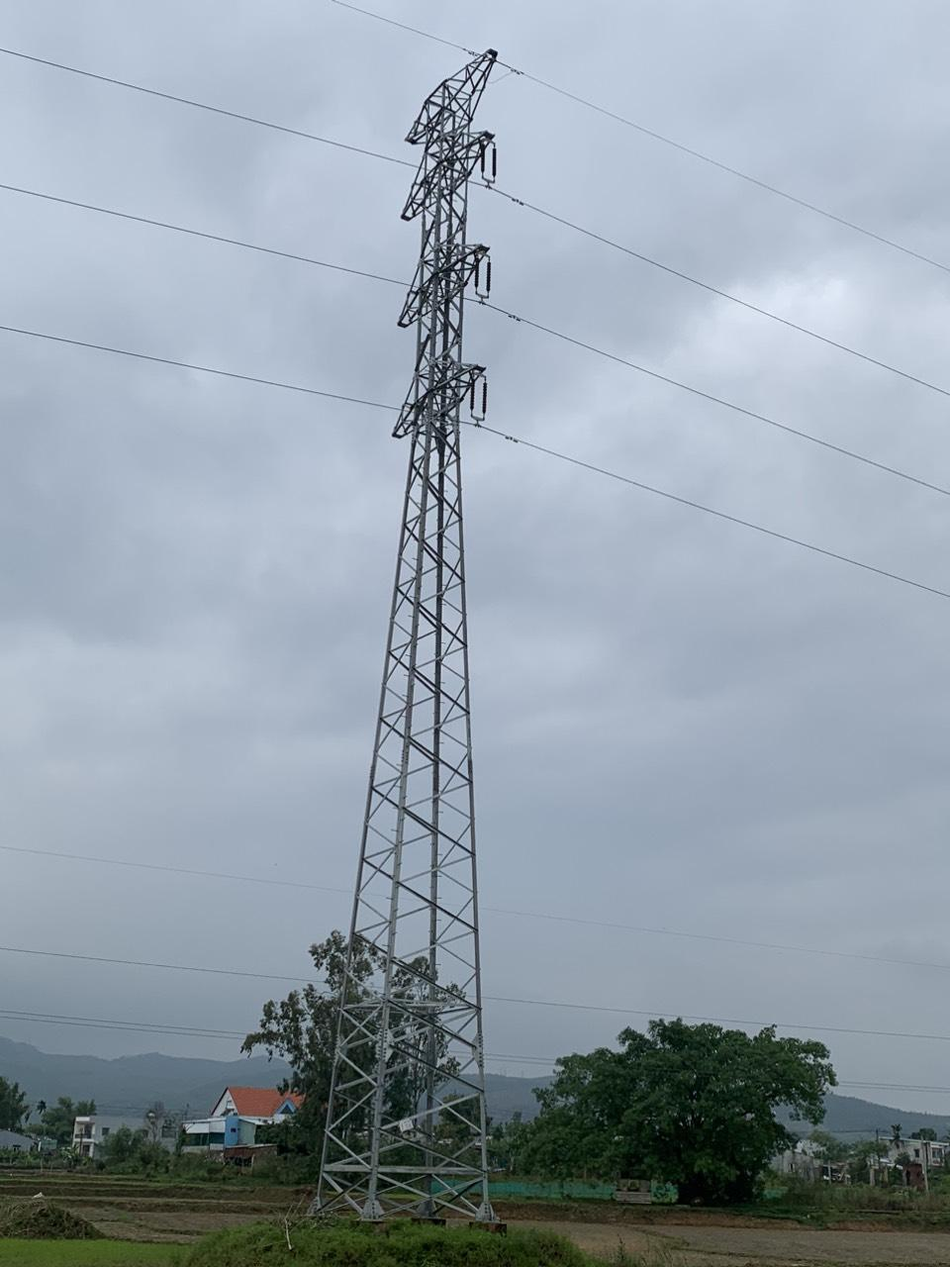power_tower: (319, 44, 513, 1216)
